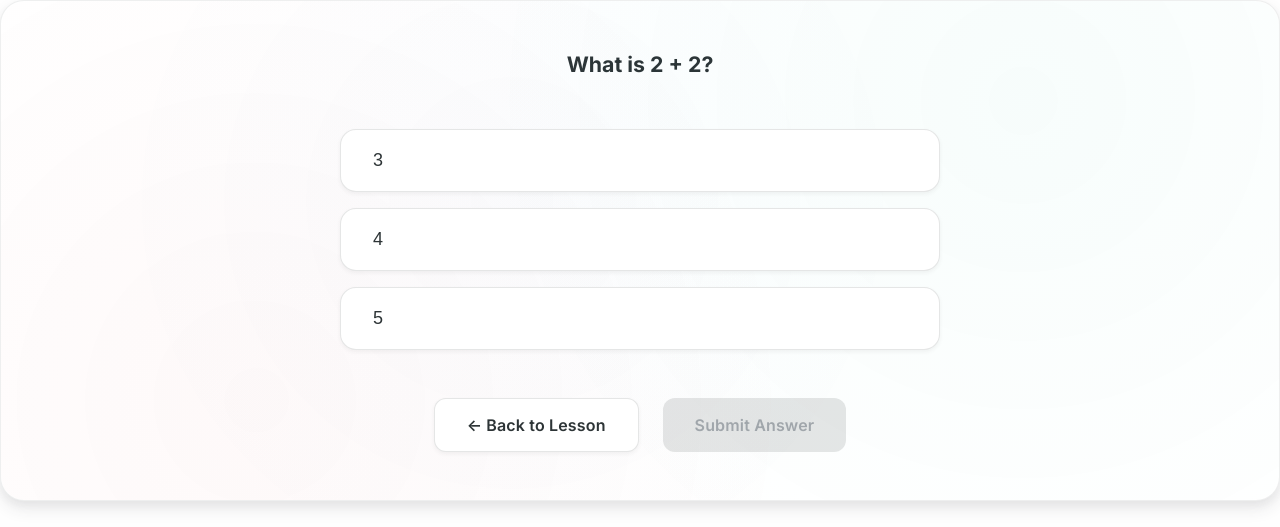
Quiz › should enable Submit Answer button when option is selected
The image size is (1280, 527).
Click the button "4": {"x": 378, "y": 239} [340,208,940,271]
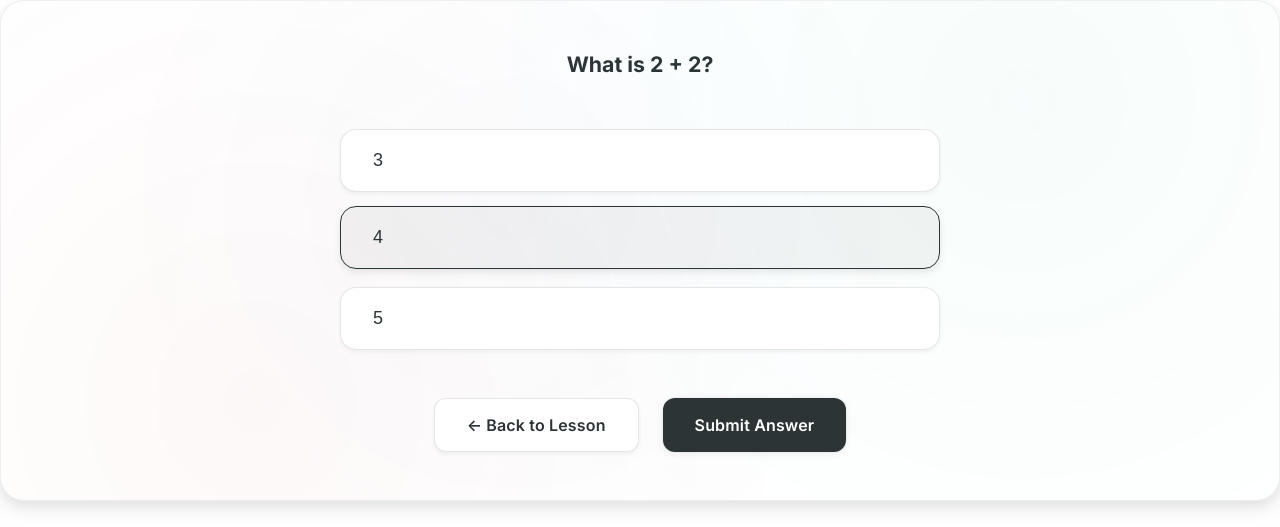
Result: the button "Submit Answer" is enabled at [663,398,846,452]
